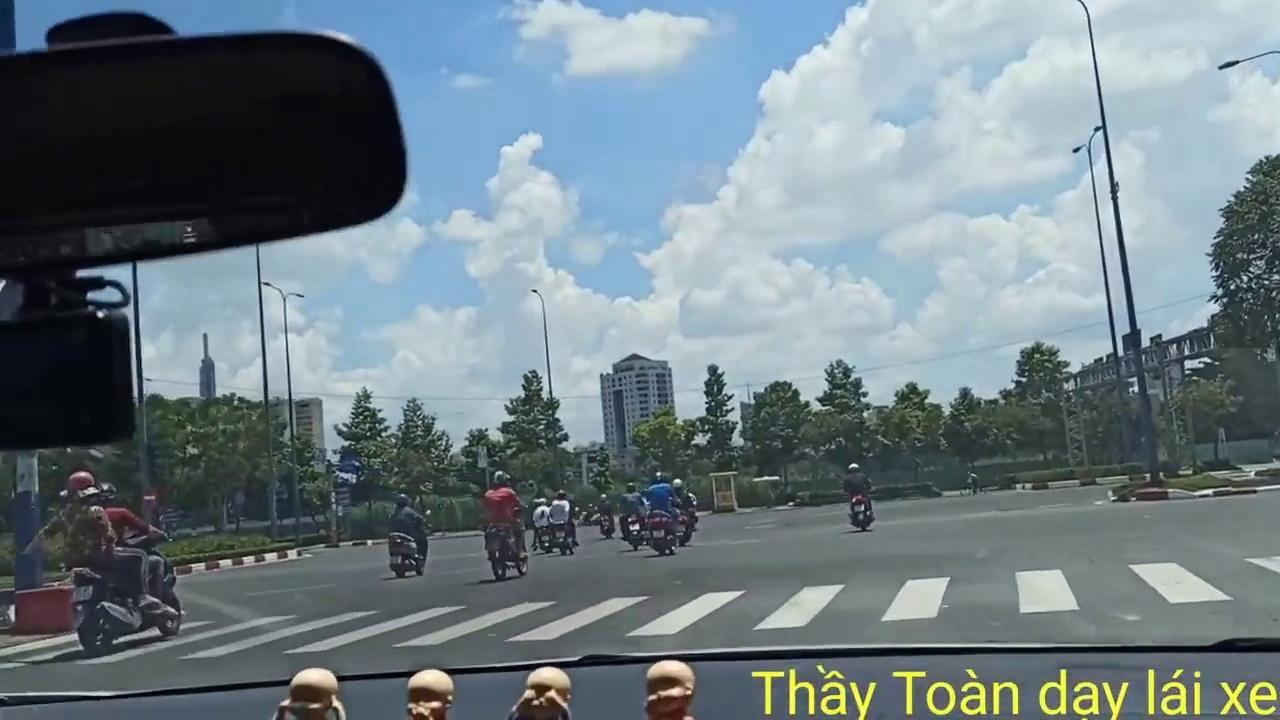Cấm đi ngược chiều: (138, 485, 163, 509)
